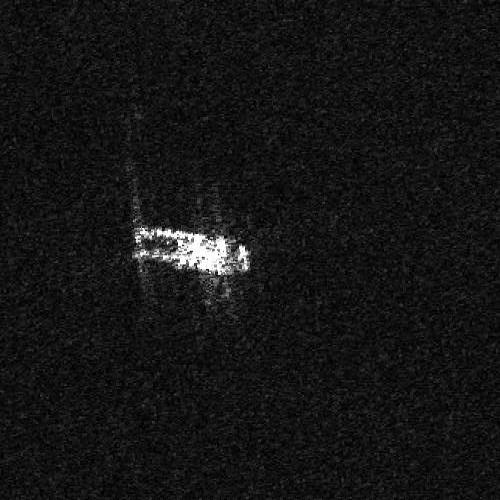ship: (131, 226, 252, 277)
